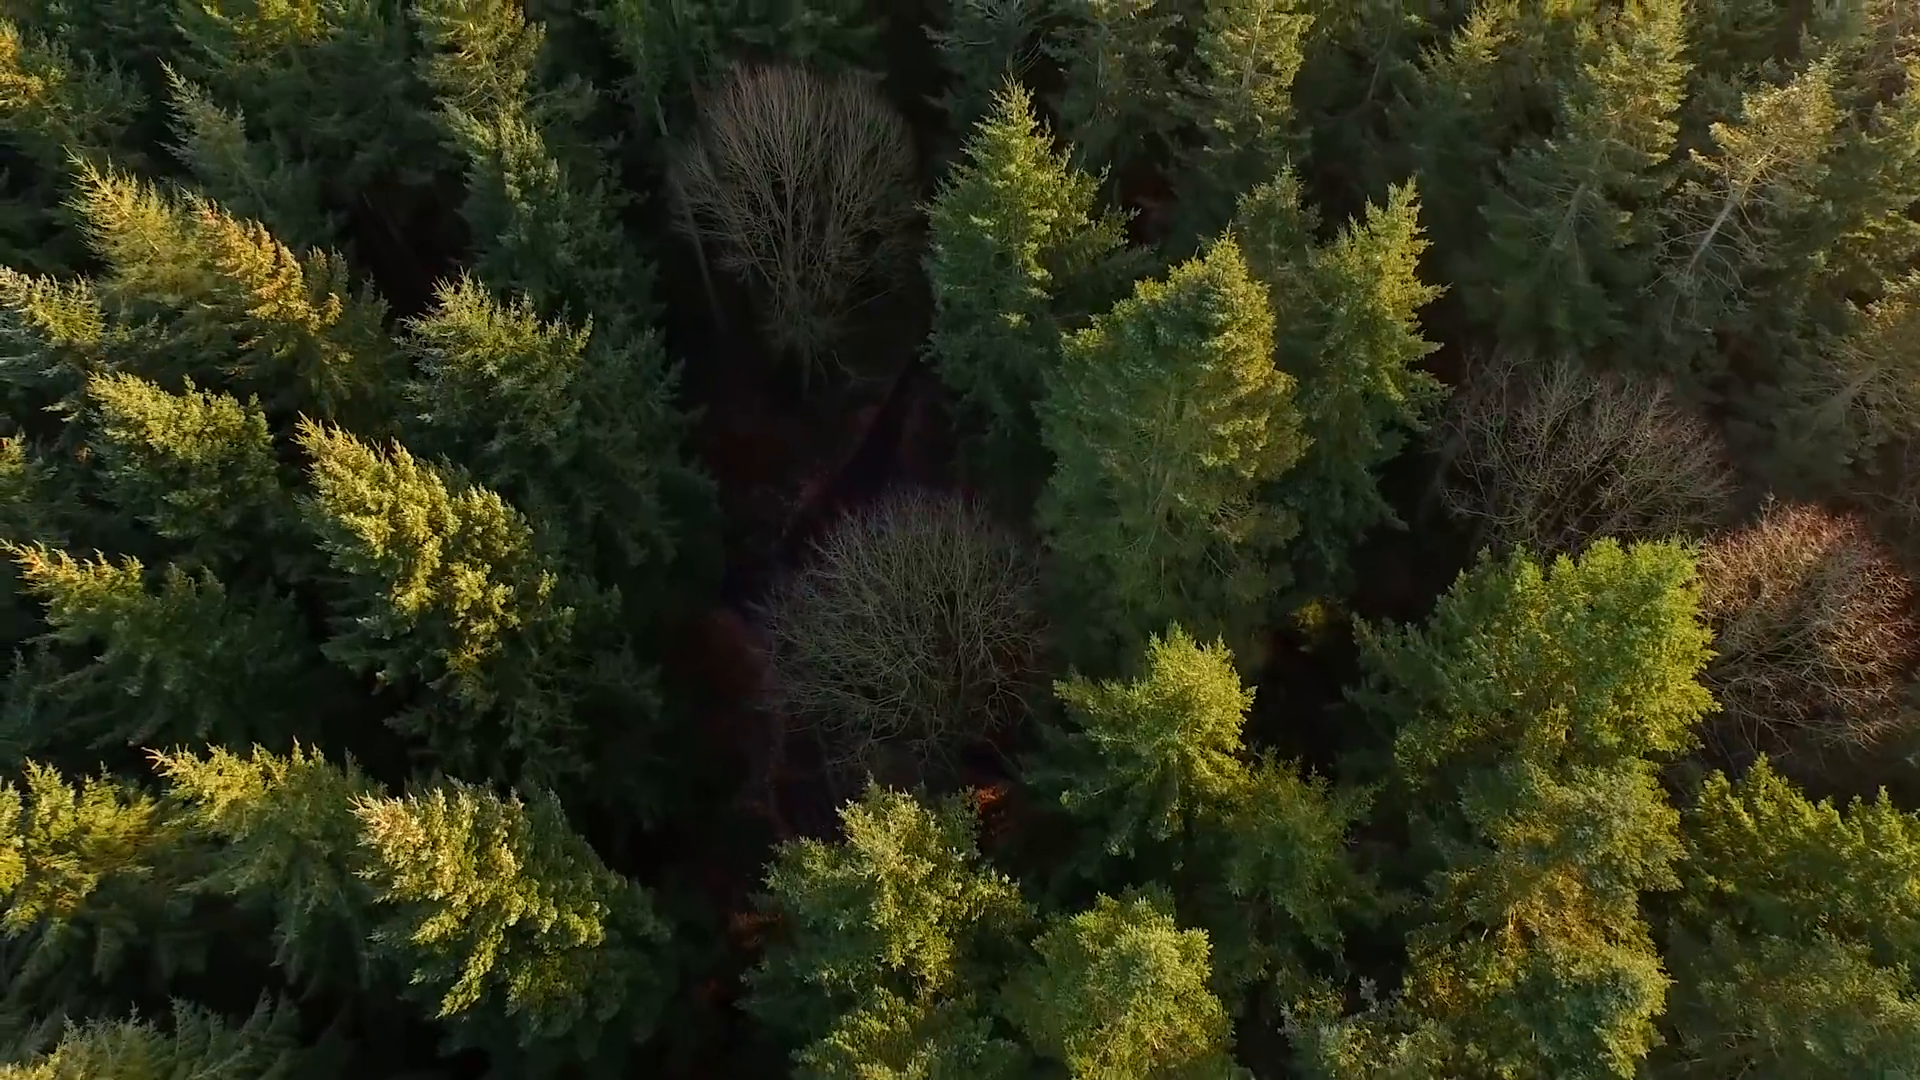forest-tree: (1411, 544, 1713, 756), (749, 524, 1027, 732), (634, 73, 912, 281), (1435, 346, 1713, 554), (1107, 220, 1281, 551), (1409, 763, 1683, 934), (1726, 497, 1910, 746), (1674, 44, 1844, 310), (1507, 48, 1677, 314), (379, 260, 620, 442), (279, 417, 477, 632), (1378, 946, 1675, 1080), (353, 788, 603, 932), (1304, 166, 1451, 407), (945, 72, 1081, 331), (801, 790, 966, 968), (1070, 633, 1247, 797), (1036, 898, 1213, 1062), (1, 983, 282, 1080), (5, 541, 208, 674), (51, 367, 254, 500), (1733, 768, 1910, 920), (170, 190, 357, 333), (404, 107, 591, 250), (1742, 928, 1919, 1080), (148, 726, 351, 859), (1, 773, 177, 924), (1203, 759, 1380, 910), (1794, 264, 1919, 456), (125, 58, 297, 186), (1176, 2, 1313, 155), (1364, 6, 1501, 159), (1038, 1, 1175, 152), (42, 141, 197, 272), (398, 1, 555, 98), (1178, 159, 1321, 255), (1, 241, 110, 366)
